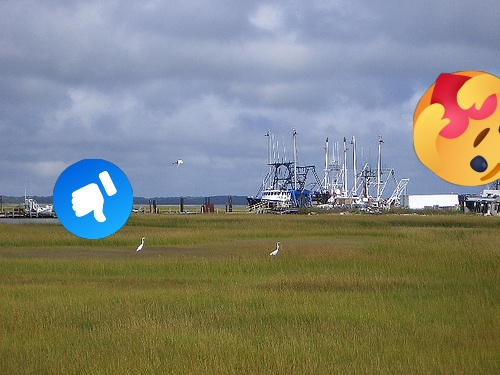care: (413, 71, 500, 186)
like: (53, 159, 133, 239)
